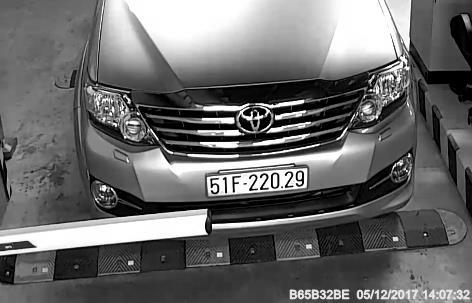License-plate: (199, 162, 315, 200)
